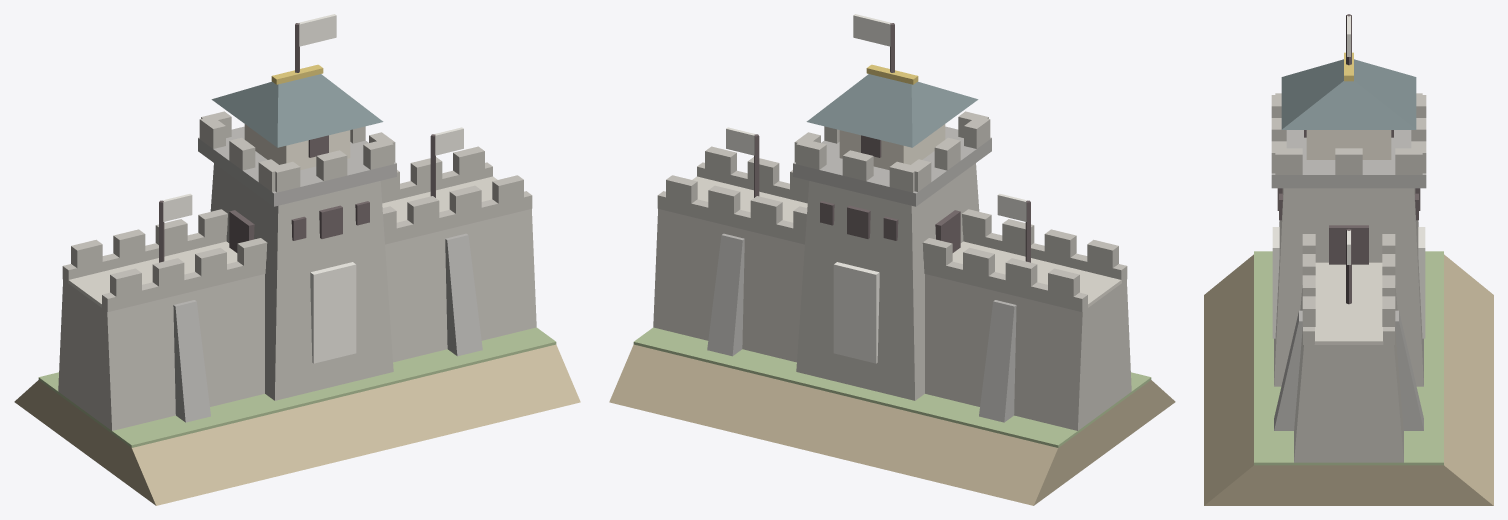
The model's file is great_wall.glb.
The picture shows the model from 3 angles, left to right: view 1: azimuth 30°, elevation 25°; view 2: azimuth 150°, elevation 25°; view 3: azimuth 270°, elevation 25°; orthographic projection.
Parts seen in each view (by area): view 1: wonder_great_wall; view 2: wonder_great_wall; view 3: wonder_great_wall.
Part boxes in pixels (x1=…): wonder_great_wall: x1=14, y1=14, x2=580, y2=505; wonder_great_wall: x1=609, y1=14, x2=1175, y2=505; wonder_great_wall: x1=1204, y1=14, x2=1493, y2=505.
Size of the model in its own units: 1 by 0.851 by 0.58.
